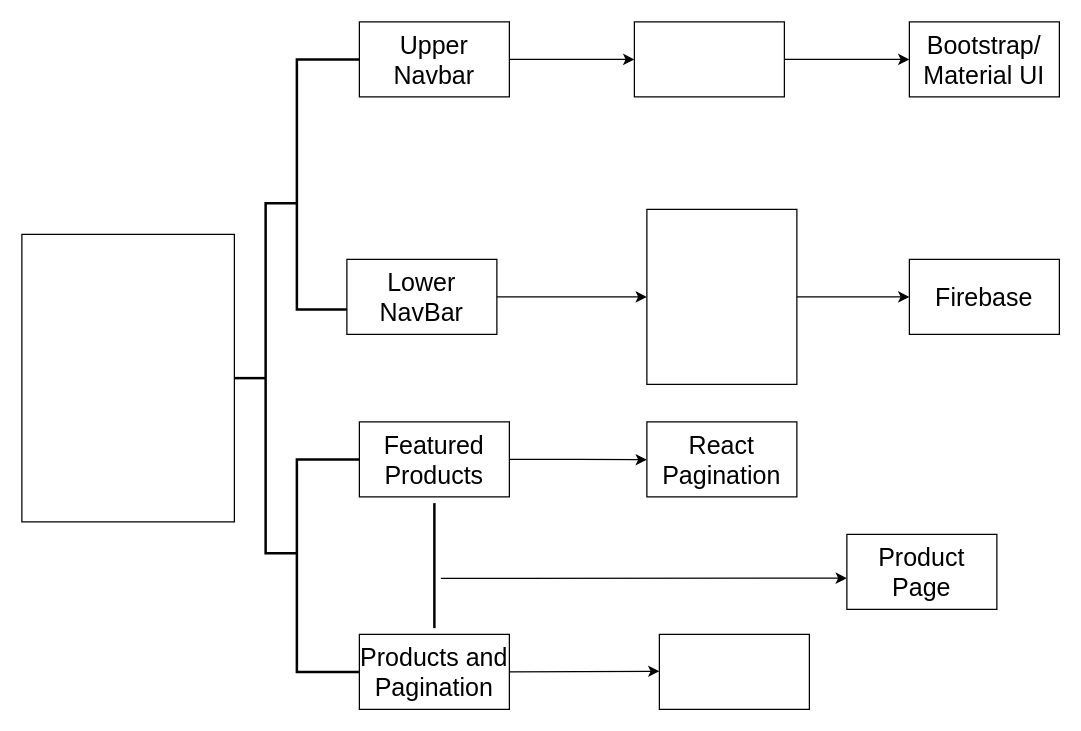
This 1081x731 diagram has some shape labels left out. The shapes that lost their labels are listed below. From the top down, each one's centre as x and y in pixels, then its label:
At [708,59]: "Logo And Nav Links".
At [721,296]: "Add product, Search Button, Add to Cart, Login".
At [127,377]: "Ecommerce Portfolio".
At [733,671]: "Any UI tool".
